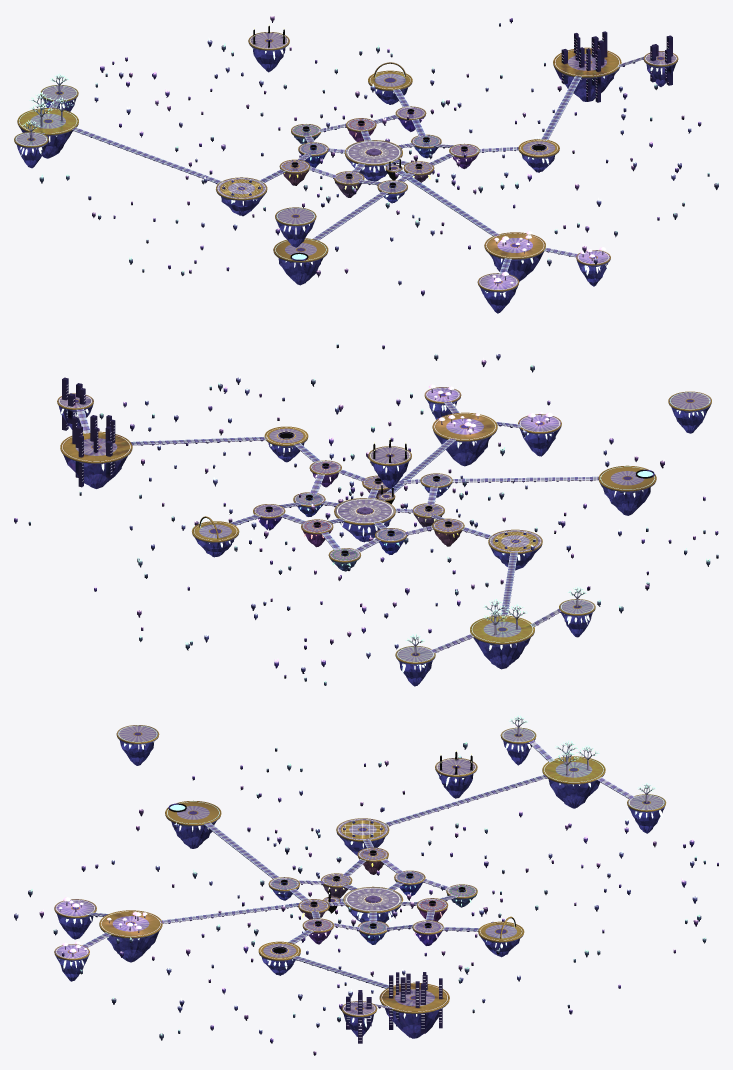
The model's file is paradox_void.glb.
3 renders of one model, top to bottom at view 1: azimuth 30°, elevation 25°; view 2: azimuth 150°, elevation 25°; view 3: azimuth 270°, elevation 25°, orthographic. The views are drawn at different scales.
Visible parts, largest first — view 1: v_bridges, v_debris, v_z3a, v_z1a, v_z4a, v_z2a, v_hub, v_o2, v_bridges_glow, v_z5, v_z2b, v_o1 (+14 smaller); view 2: v_bridges, v_debris, v_z3a, v_z1a, v_z4a, v_z2a, v_hub, v_o2, v_z5, v_bridges_glow, v_z2b, v_o1 (+12 smaller); view 3: v_bridges, v_debris, v_z3a, v_z1a, v_z4a, v_z2a, v_hub, v_o2, v_bridges_glow, v_z5, v_z2b, v_o1 (+12 smaller).
Boxes of the visible parts, left/top/right/bottom form: v_bridges: left=41, top=56, right=644, bottom=273; v_debris: left=39, top=16, right=718, bottom=295; v_z3a: left=553, top=31, right=621, bottom=102; v_z1a: left=17, top=94, right=78, bottom=158; v_z4a: left=484, top=232, right=545, bottom=281; v_z2a: left=273, top=238, right=328, bottom=285; v_hub: left=344, top=140, right=402, bottom=181; v_o2: left=216, top=177, right=267, bottom=216; v_bridges_glow: left=49, top=56, right=642, bottom=273; v_z5: left=248, top=26, right=289, bottom=72; v_z2b: left=275, top=207, right=316, bottom=247; v_o1: left=368, top=62, right=412, bottom=104; v_bridges: left=76, top=401, right=598, bottom=652; v_debris: left=14, top=344, right=718, bottom=685; v_z3a: left=60, top=415, right=132, bottom=488; v_z1a: left=470, top=601, right=534, bottom=669; v_z4a: left=432, top=412, right=497, bottom=466; v_z2a: left=598, top=465, right=656, bottom=515; v_hub: left=334, top=498, right=395, bottom=542; v_o2: left=488, top=529, right=542, bottom=570; v_z5: left=368, top=440, right=411, bottom=488; v_bridges_glow: left=77, top=402, right=600, bottom=652; v_z2b: left=668, top=391, right=711, bottom=433; v_o1: left=192, top=516, right=239, bottom=557; v_bridges: left=81, top=740, right=633, bottom=1009; v_debris: left=14, top=743, right=718, bottom=1055; v_z3a: left=379, top=972, right=449, bottom=1038; v_z1a: left=542, top=743, right=605, bottom=808; v_z4a: left=99, top=910, right=162, bottom=962; v_z2a: left=165, top=800, right=221, bottom=848; v_hub: left=343, top=886, right=403, bottom=922; v_o2: left=336, top=818, right=389, bottom=855; v_bridges_glow: left=81, top=740, right=634, bottom=1007; v_z5: left=435, top=751, right=477, bottom=798; v_z2b: left=116, top=725, right=159, bottom=765; v_o1: left=478, top=916, right=524, bottom=957.
Bounding box in the file's own units: 200 × 51.42 × 204.
